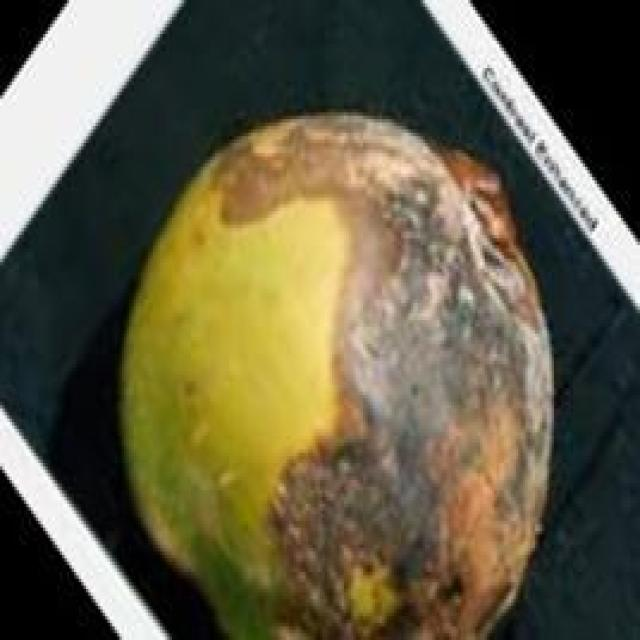damaged: (110, 112, 554, 637)
